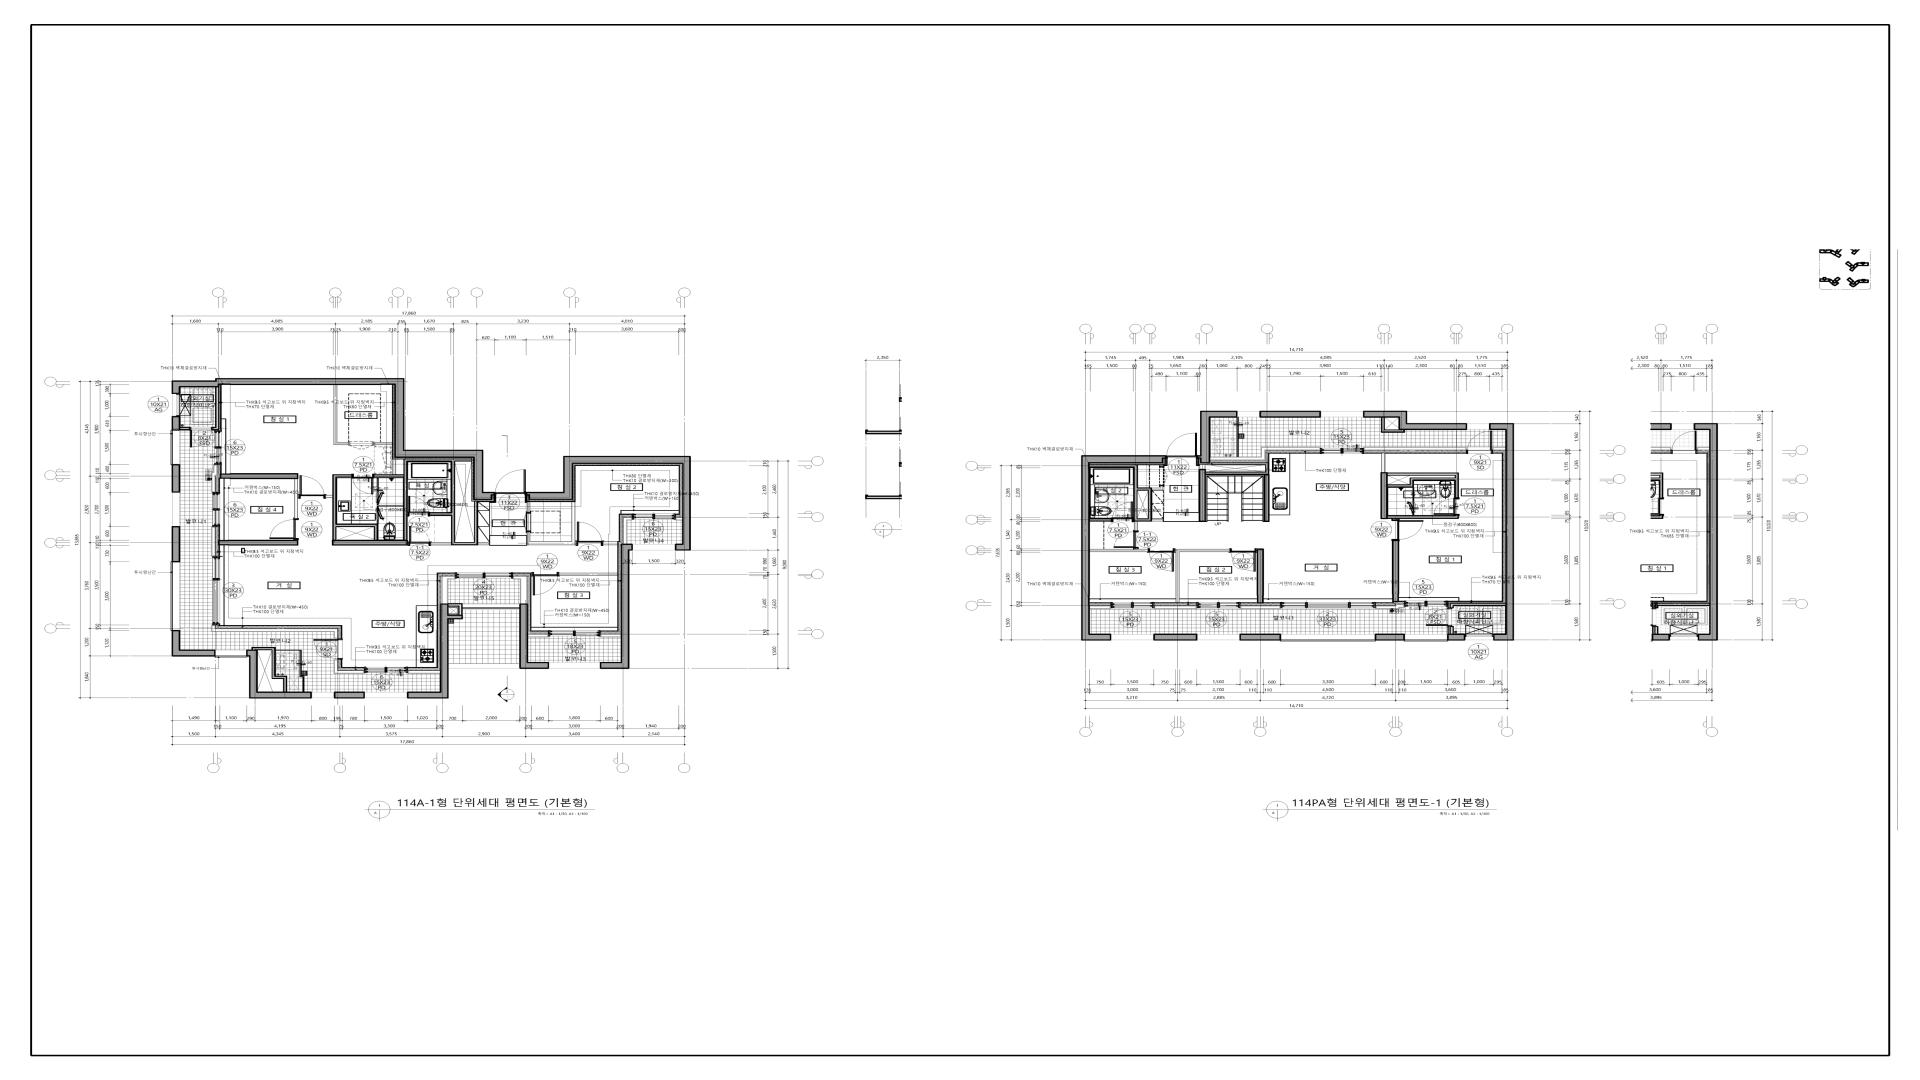door: (1166, 433, 1197, 465), (495, 471, 526, 502), (1391, 520, 1424, 541), (531, 572, 559, 596), (298, 475, 326, 498), (269, 518, 299, 539), (1149, 549, 1175, 572), (1230, 549, 1257, 572), (576, 522, 603, 546), (314, 638, 343, 659), (1466, 431, 1493, 454), (1425, 608, 1453, 626), (1433, 497, 1460, 516), (1110, 501, 1133, 522), (352, 473, 375, 495), (407, 496, 430, 517), (190, 427, 212, 447), (407, 526, 430, 546), (1114, 531, 1139, 549), (349, 442, 375, 450)
wall: (171, 378, 495, 500), (1081, 455, 1166, 641), (526, 456, 691, 551), (375, 459, 489, 546), (1489, 423, 1514, 641), (407, 604, 463, 699), (1089, 464, 1163, 531), (600, 543, 633, 669), (326, 475, 378, 539), (247, 650, 313, 699), (1176, 549, 1230, 603), (1197, 410, 1238, 463), (1364, 410, 1468, 430), (527, 502, 575, 545), (520, 604, 549, 669), (1387, 472, 1458, 497), (211, 625, 338, 638), (252, 647, 287, 692), (1211, 447, 1320, 460), (171, 630, 215, 657), (334, 385, 349, 444), (1207, 463, 1270, 475), (220, 539, 298, 546), (332, 539, 407, 546), (1259, 410, 1321, 418), (334, 659, 364, 674), (1257, 549, 1265, 604), (1364, 447, 1466, 451), (222, 473, 298, 479), (513, 576, 527, 604), (440, 576, 455, 604), (1393, 541, 1399, 601), (1381, 418, 1406, 433), (1199, 469, 1205, 522), (171, 526, 181, 563), (1263, 475, 1270, 522), (1381, 472, 1387, 520), (1154, 634, 1197, 641), (1451, 603, 1505, 608), (1387, 516, 1458, 520), (1240, 634, 1282, 641), (212, 388, 219, 430), (171, 464, 181, 493), (622, 517, 632, 543), (1089, 549, 1149, 553), (559, 572, 617, 576), (334, 692, 365, 699), (1375, 634, 1404, 641), (211, 464, 218, 492), (448, 603, 463, 615), (1154, 605, 1196, 609), (211, 526, 216, 556), (294, 479, 298, 518), (1241, 605, 1280, 609), (1375, 604, 1404, 609), (1447, 633, 1465, 641), (171, 415, 181, 431), (407, 670, 439, 674), (1089, 518, 1112, 522), (1089, 605, 1110, 609), (1382, 454, 1386, 472), (527, 634, 549, 637), (1493, 447, 1506, 451), (375, 442, 392, 444), (603, 542, 617, 545), (1200, 464, 1205, 469), (527, 502, 530, 513), (675, 517, 682, 521), (181, 427, 190, 430), (1451, 626, 1453, 633)
window: (1280, 601, 1375, 609), (170, 563, 179, 630), (1282, 634, 1375, 641), (212, 556, 220, 625), (455, 572, 513, 579), (448, 663, 520, 669), (463, 604, 520, 611), (1196, 601, 1241, 609), (170, 431, 181, 464), (1110, 601, 1154, 609), (549, 662, 600, 669), (549, 630, 600, 637), (1404, 600, 1448, 607), (632, 513, 675, 520), (364, 667, 407, 674), (212, 492, 220, 526), (214, 430, 222, 464), (1406, 634, 1447, 641), (215, 650, 247, 658), (1320, 448, 1364, 454), (1321, 411, 1364, 417), (1112, 634, 1154, 640), (1197, 634, 1240, 640), (365, 692, 407, 698), (633, 545, 675, 550), (173, 493, 179, 526), (1465, 634, 1493, 640), (1468, 423, 1489, 430), (173, 394, 179, 415), (1237, 411, 1259, 417), (313, 692, 334, 698)
